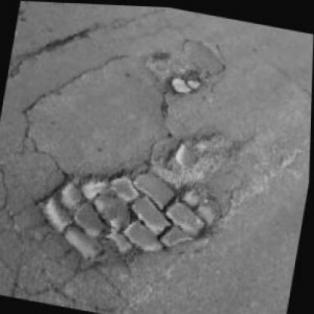Hueco: (27, 148, 230, 289), (160, 119, 233, 187), (168, 64, 205, 97)
